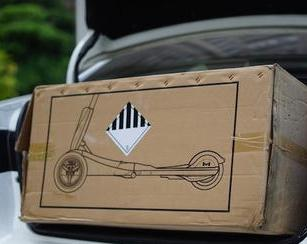cardboard: (18, 0, 306, 243)
